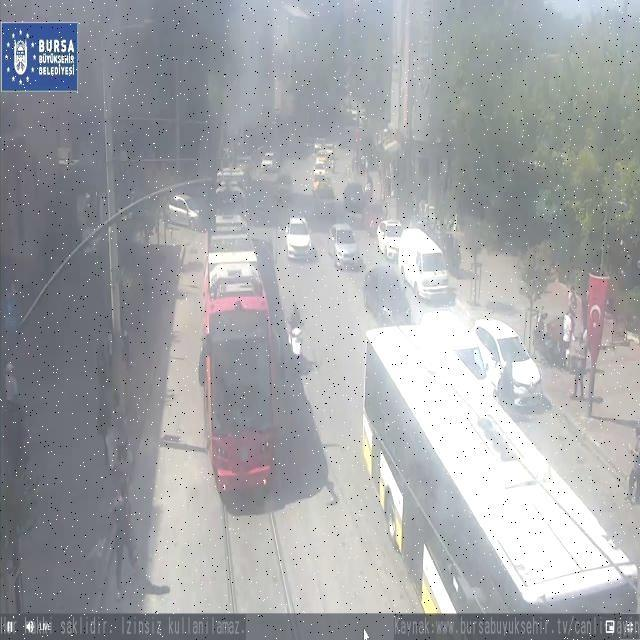Bus: (360, 324, 640, 640), (202, 207, 278, 493)
Car: (363, 268, 413, 321), (328, 221, 364, 269), (284, 215, 316, 262)
Van: (397, 227, 455, 300)
